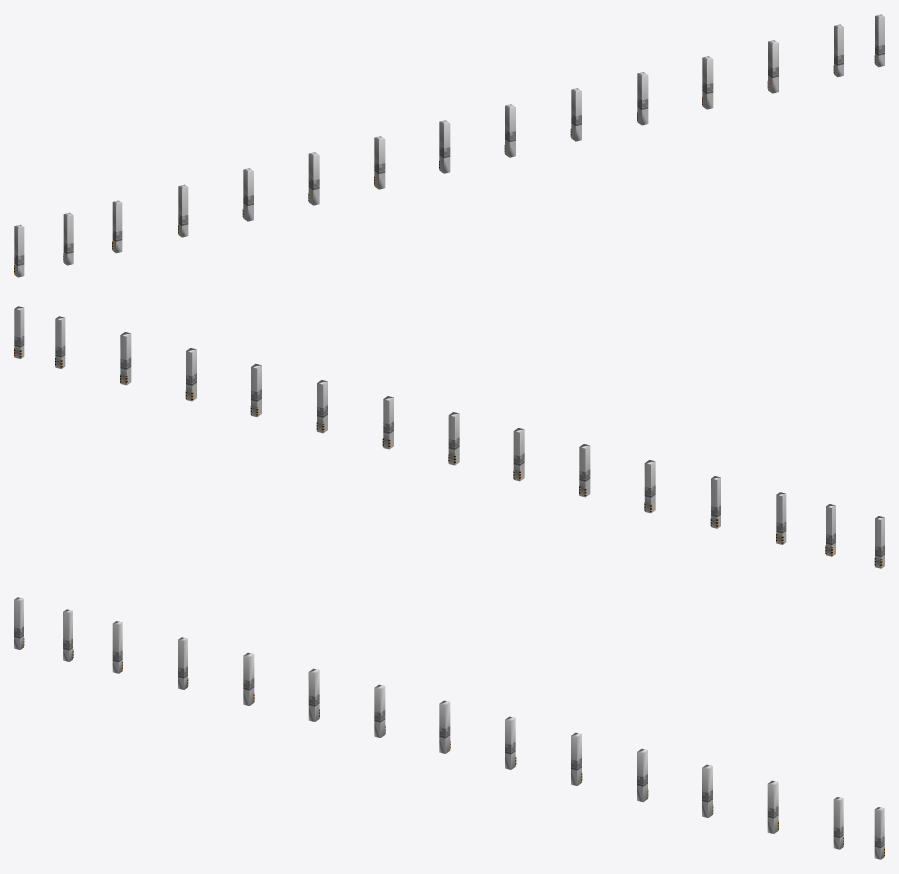
Rendered from WPLPillars05.fbx.
3 renders of one model, top to bottom at view 1: azimuth 30°, elevation 25°; view 2: azimuth 150°, elevation 25°; view 3: azimuth 330°, elevation 25°, orthographic.
Visible parts, largest first — view 1: Pillars 05.Shape; view 2: Pillars 05.Shape; view 3: Pillars 05.Shape.
Boxes of the visible parts, bbox=[...] form: Pillars 05.Shape: bbox=[14, 14, 884, 277]; Pillars 05.Shape: bbox=[14, 306, 884, 568]; Pillars 05.Shape: bbox=[14, 597, 884, 859].
Bounding box in the file's own units: 11888 × 636 × 115.
4 materials, 3 textured.
